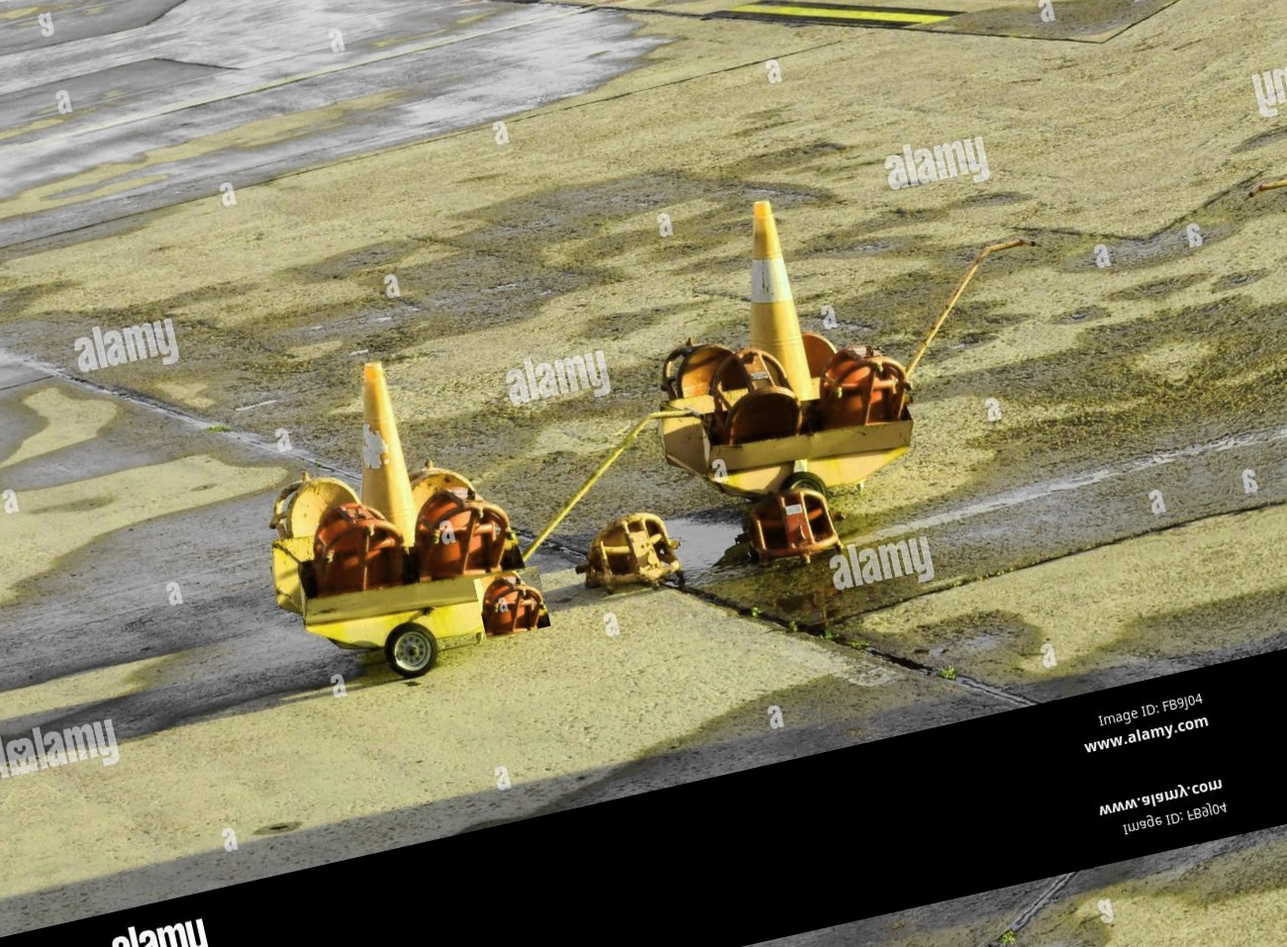chock: (401, 470, 523, 589), (565, 500, 698, 608), (302, 488, 416, 604), (696, 339, 811, 453), (812, 337, 919, 439), (733, 478, 844, 571), (261, 461, 366, 545), (652, 324, 752, 408), (405, 452, 489, 531), (474, 565, 551, 640), (799, 318, 848, 376)
wheel: (378, 617, 445, 685), (772, 465, 836, 524)
